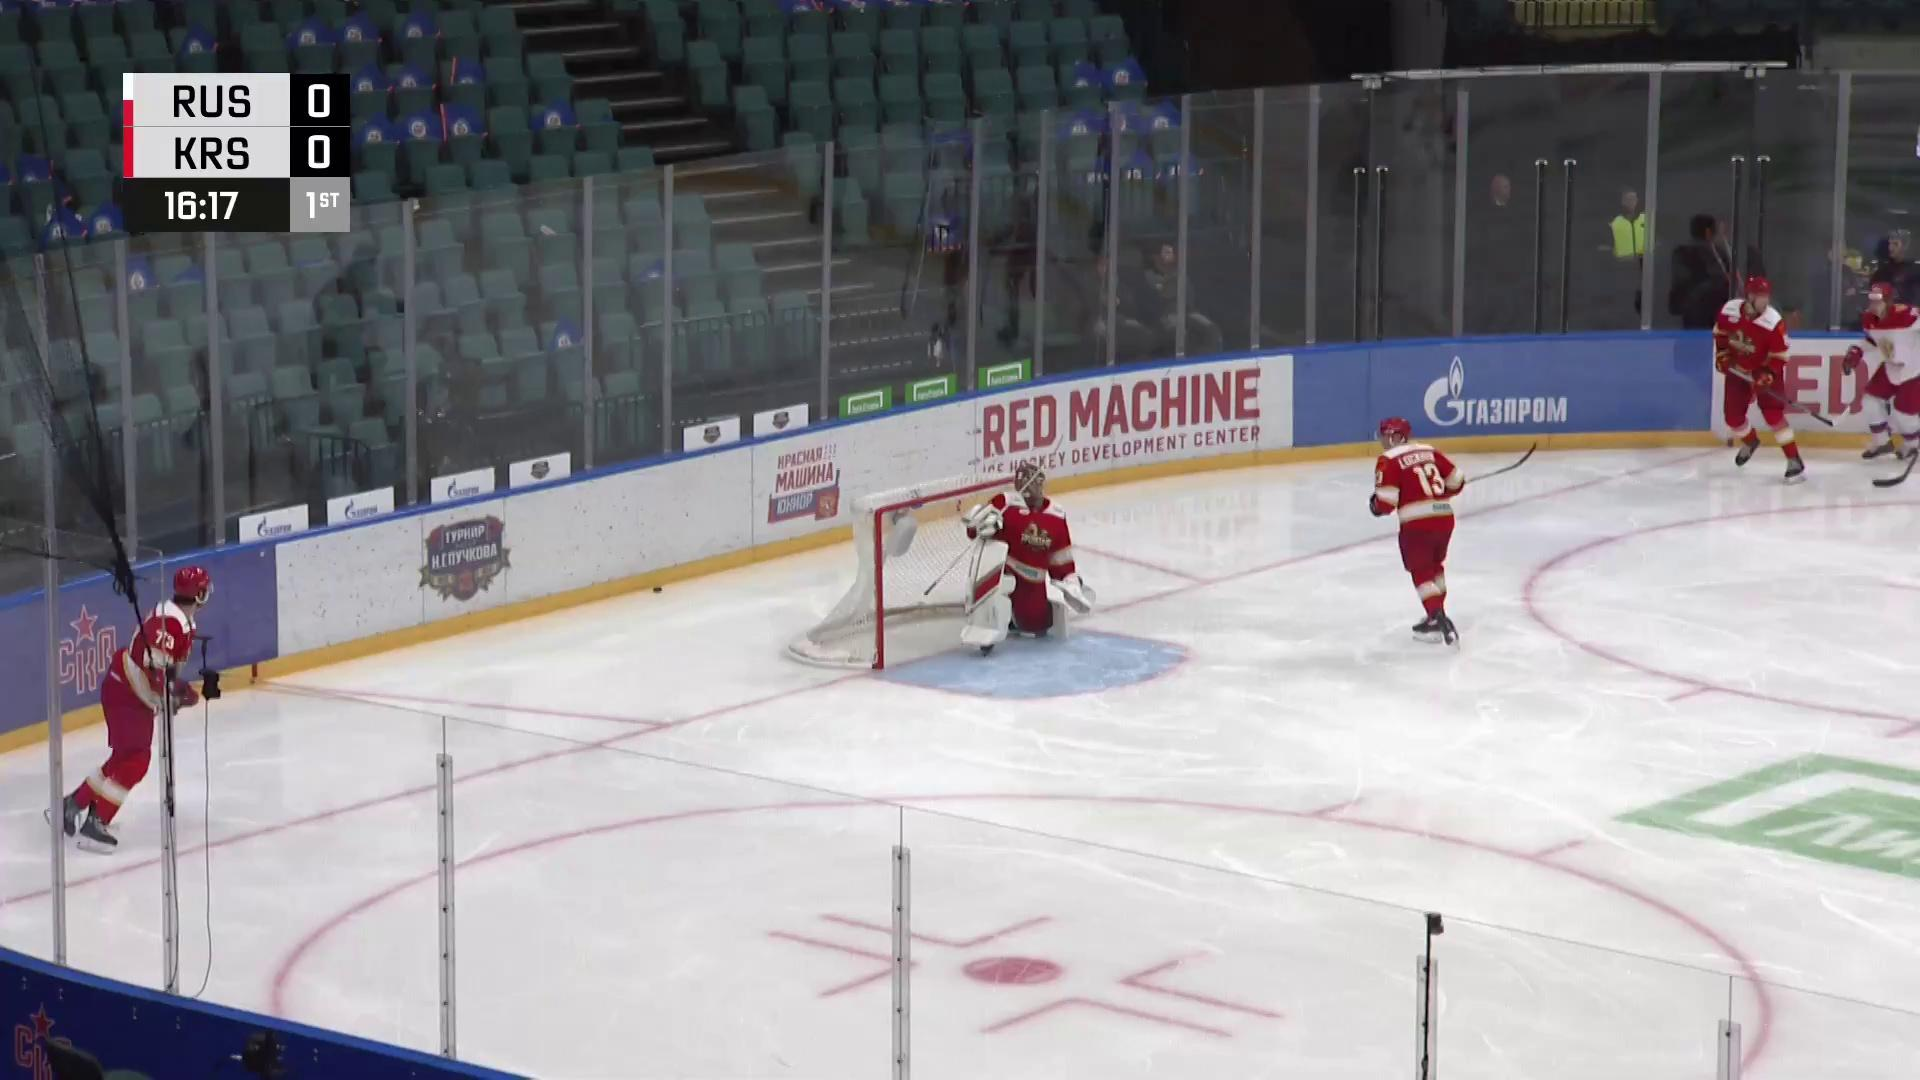ball: (651, 585, 665, 596)
